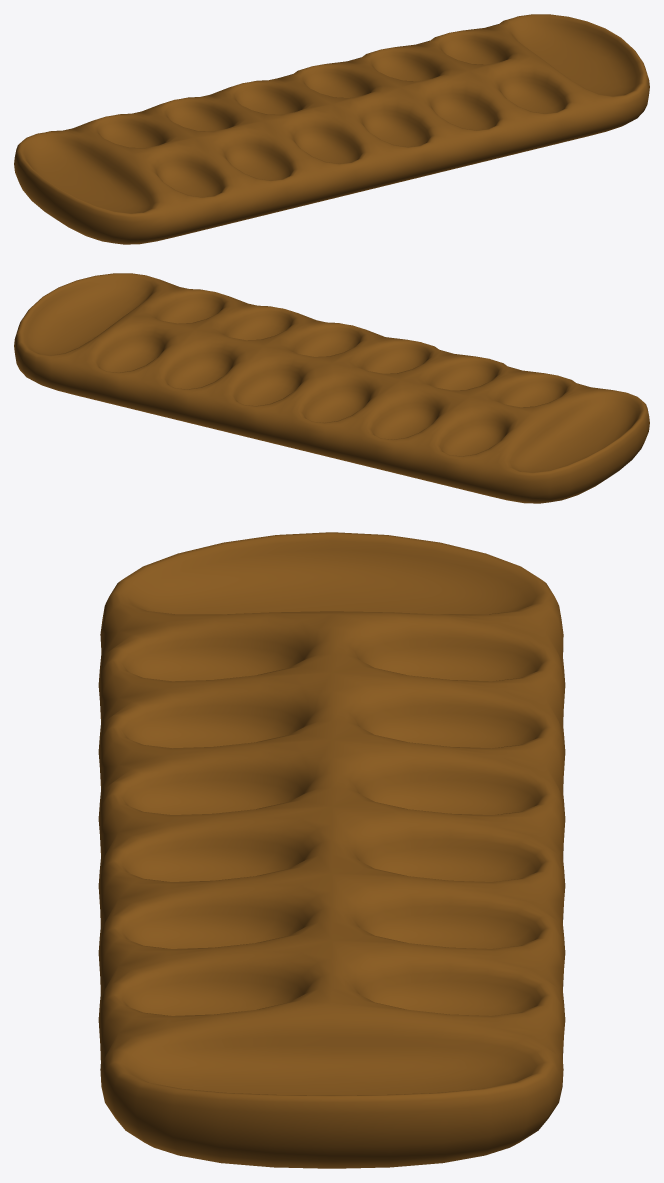
Rendered from Board.fbx.
3 views of the same model, one above another, from view 1: azimuth 30°, elevation 25°; view 2: azimuth 150°, elevation 25°; view 3: azimuth 270°, elevation 25° (orthographic). The views are drawn at different scales.
Parts seen in each view (by area): view 1: Board; view 2: Board; view 3: Board.
Part boxes in pixels (x1,y1,x2,y2): Board: (14, 14, 649, 244); Board: (14, 273, 649, 503); Board: (98, 532, 565, 1168).
Size of the model in its own units: 1707 by 149 by 589.
